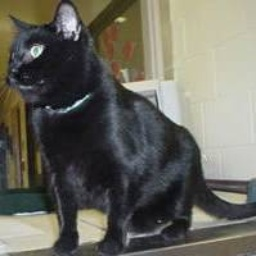cat: (6, 1, 253, 256)
